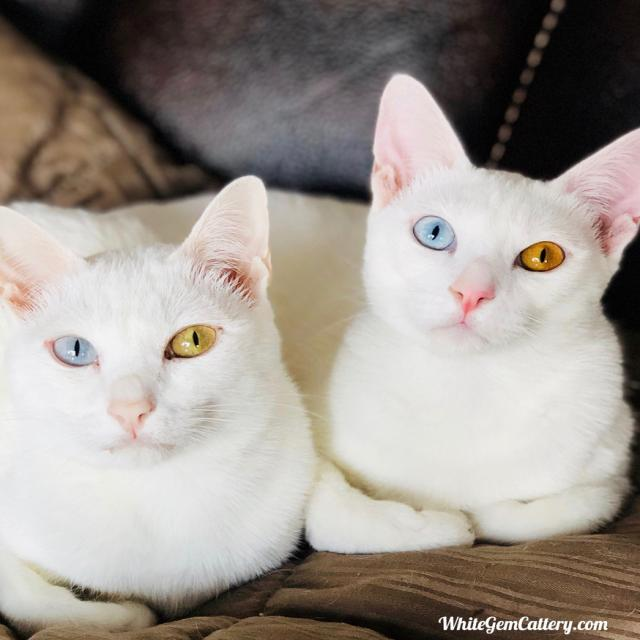Khao Manee: (304, 69, 640, 560), (0, 172, 315, 636)
